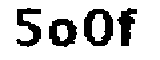0: (83, 4, 116, 54)
5: (12, 5, 46, 52)
f: (116, 6, 146, 54)
o: (47, 17, 80, 49)
